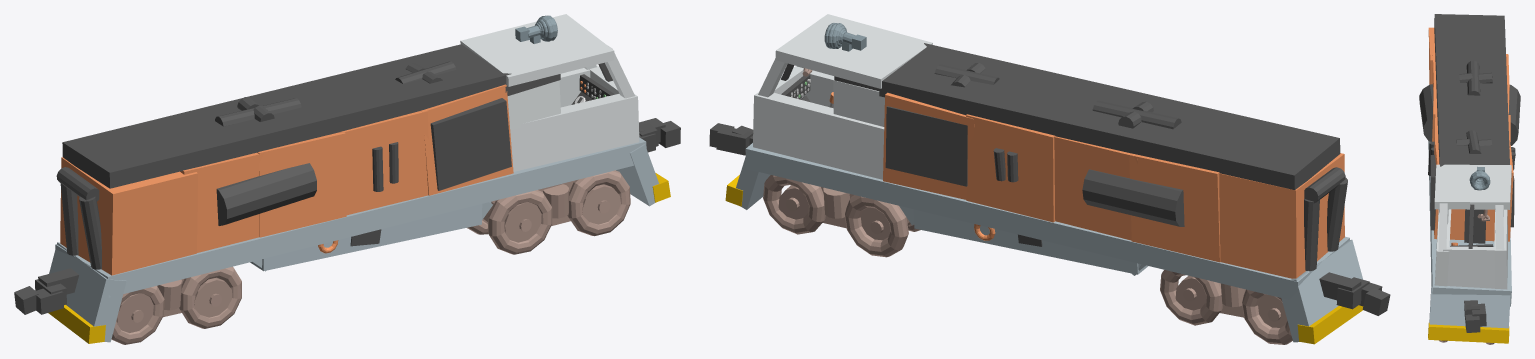
The model's file is aPcqyAWv8u6.glb.
The picture shows the model from 3 angles, left to right: view 1: azimuth 30°, elevation 25°; view 2: azimuth 150°, elevation 25°; view 3: azimuth 270°, elevation 25°; orthographic projection. The views are drawn at different scales.
Parts seen in each view (by area): view 1: group1565358587; view 2: group1565358587; view 3: group1565358587, group236075784, group1382549358.
Boxes of the visible parts, <box> form: group1565358587: <box>14,14,680,344</box>; group1565358587: <box>709,14,1390,344</box>; group1565358587: <box>1419,14,1520,344</box>; group236075784: <box>1464,209,1485,243</box>; group1382549358: <box>1450,244,1493,246</box>.
Size of the model in its own units: 4.37 by 1.33 by 0.7662.
